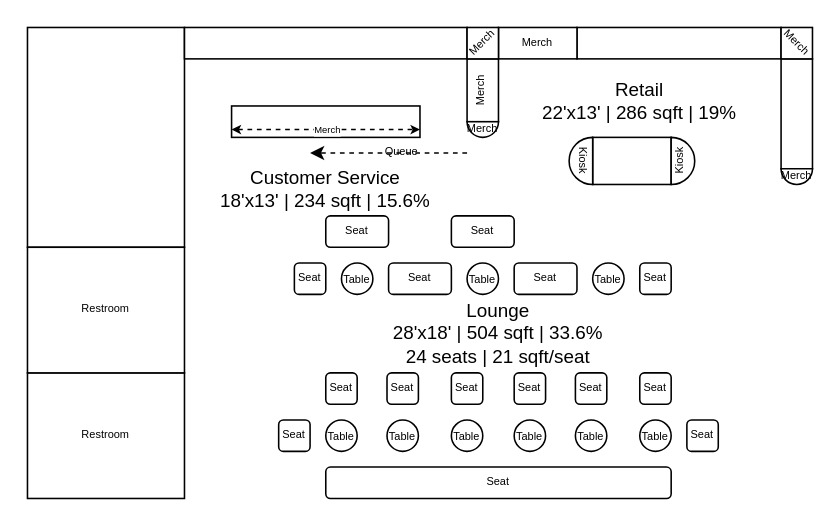
Some shapes in this 840 by 526 pixel diagram are drawn without their labels. The shapes that lost their labels are listed below. From the top down, each one's box as (x1, y1, x2, y2) in pixels, then its label:
(183, 26, 467, 59): Work Surface
(575, 26, 781, 59): Records (12x)
(230, 104, 420, 137): Counter
(780, 57, 812, 169): Records (6x)
(26, 26, 184, 247): Backroom
(591, 136, 671, 184): Records (8x)
